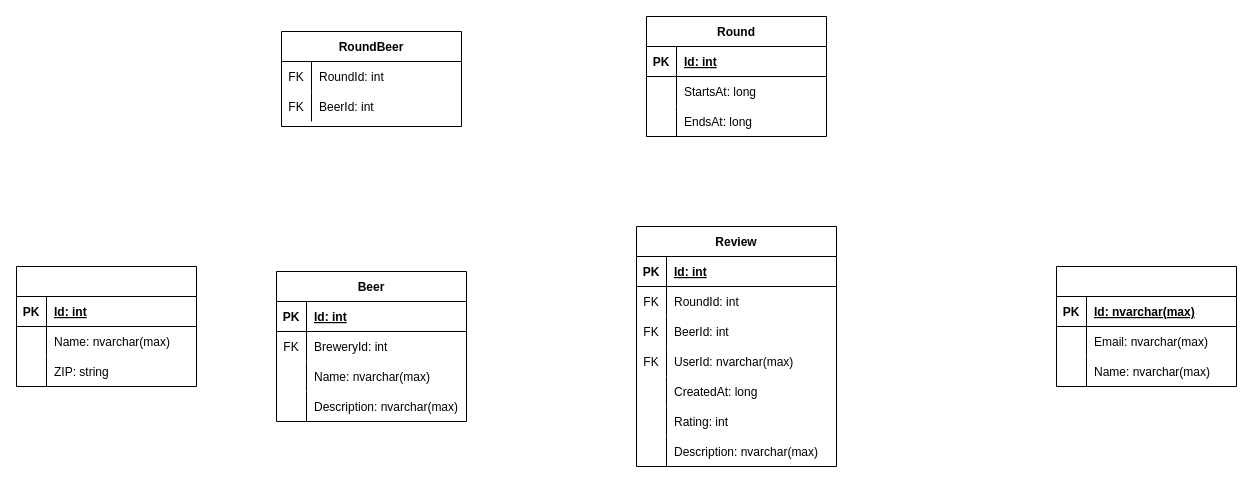
Some shapes in this 1253 by 483 pixel diagram are drawn without their labels. The box of each missing label's shape, as (x1, y1, x2, y2) in pixels:
Brewery: (16, 266, 196, 386)
User: (1056, 266, 1236, 386)
